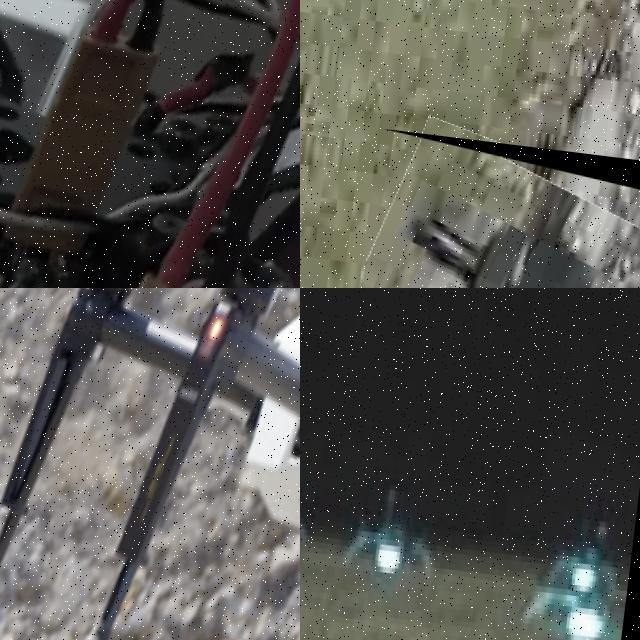0: (351, 128, 640, 288)
drone: (0, 288, 300, 640), (0, 0, 300, 288)
